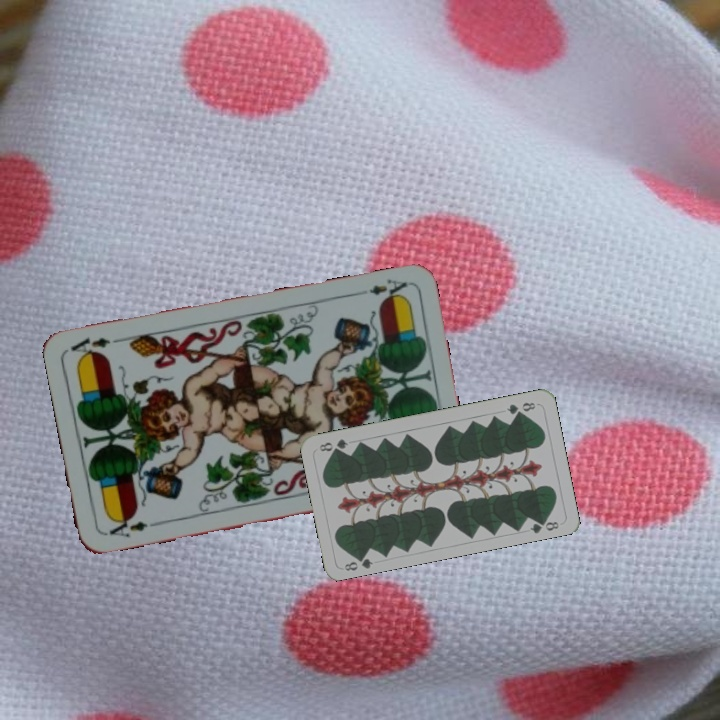EA: (352, 275, 410, 304), (105, 512, 160, 540)
G8: (340, 550, 375, 574), (503, 398, 538, 417)
